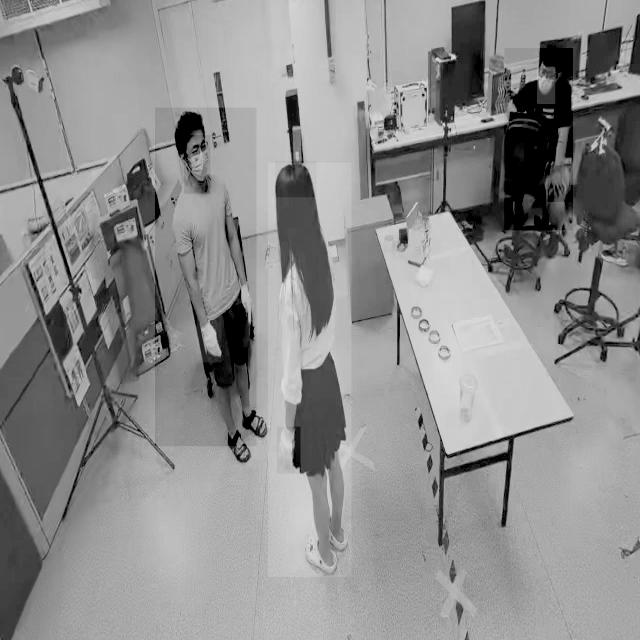face_mask: (184, 135, 210, 194), (536, 67, 556, 105)
hand_glove: (196, 308, 222, 364), (276, 426, 300, 474), (238, 282, 256, 321)
hand_noglove: (547, 165, 565, 203)
head_nohelmet: (274, 161, 316, 198), (174, 108, 208, 132), (539, 40, 567, 67)
person: (268, 162, 352, 578), (154, 108, 256, 447), (504, 48, 573, 231)
